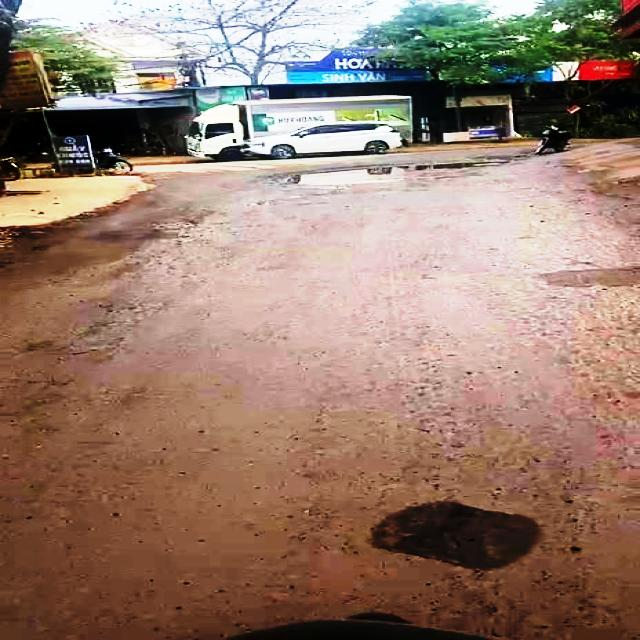pothole: (282, 159, 514, 190)
